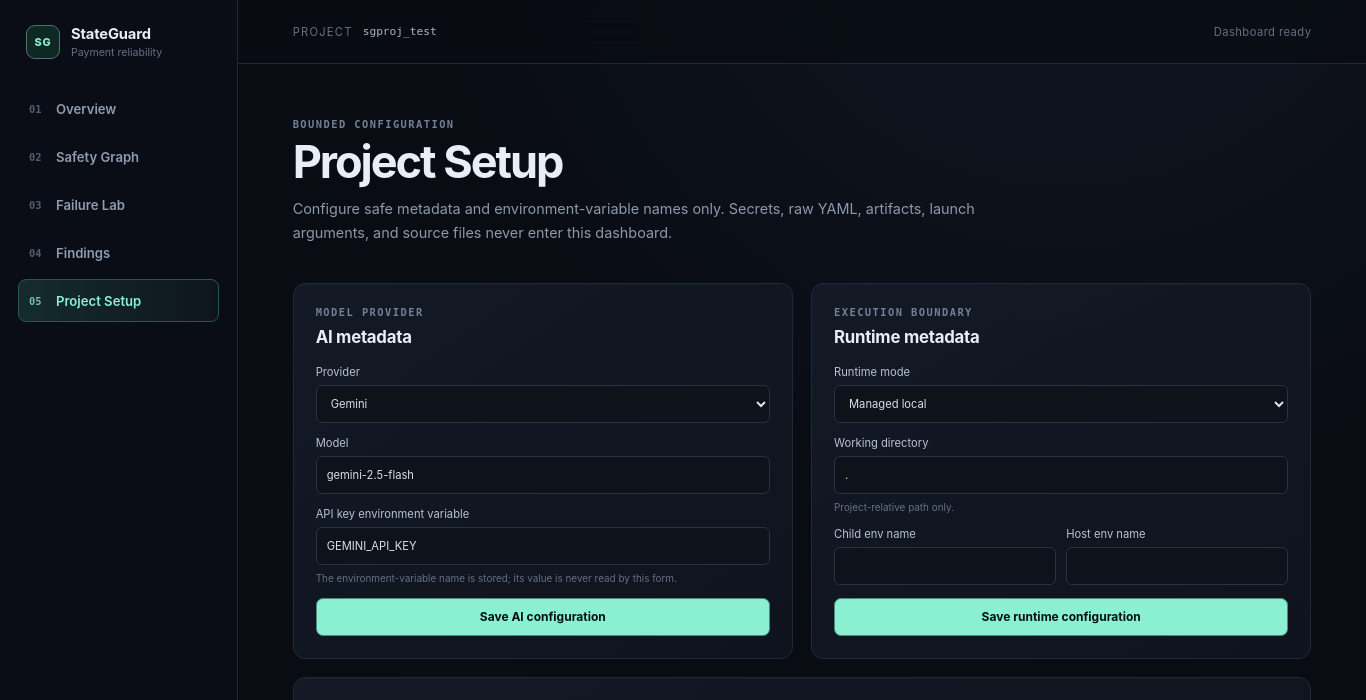
Scenario: ProjectSetupPage semantic workflow integration › renders partial bundle copy when provider succeeded with partial coverage
# Establish analysis authority
Click the link "01 Overview".
click(73, 108)  # box [29,100,116,116]
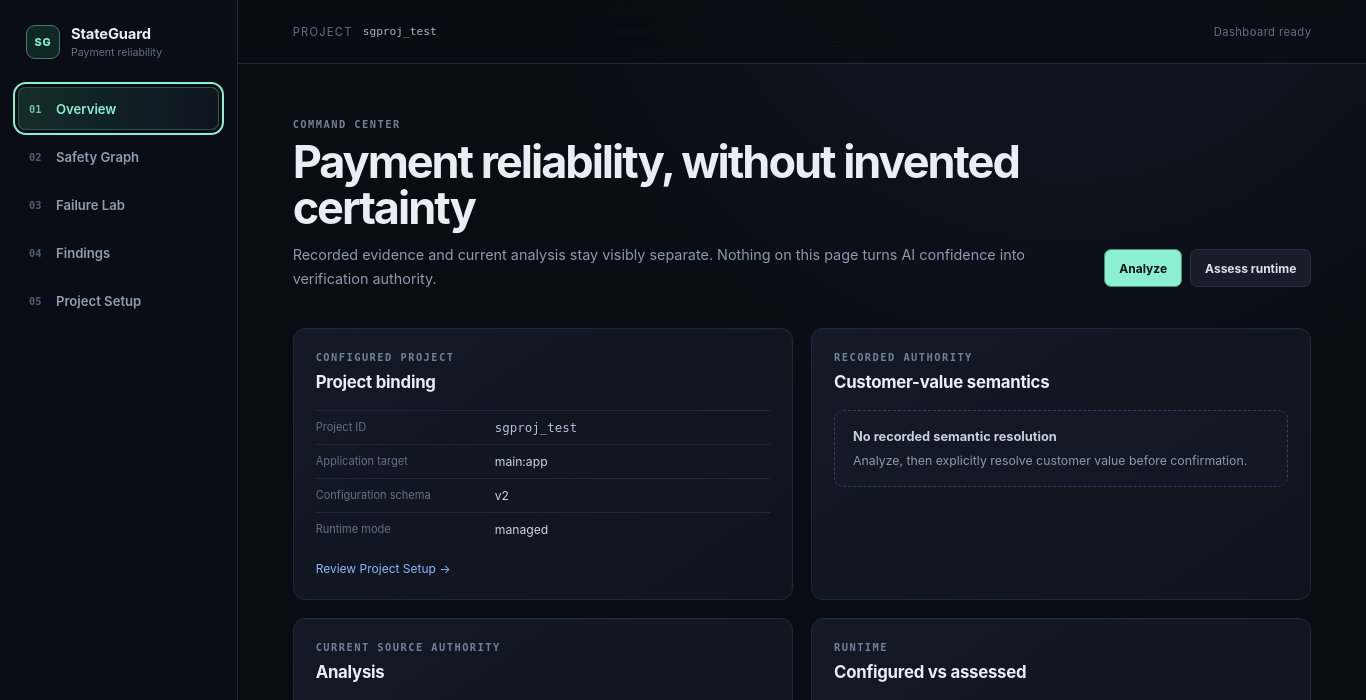
Click the button "Analyze".
click(1143, 268)  # box [1104,250,1182,288]
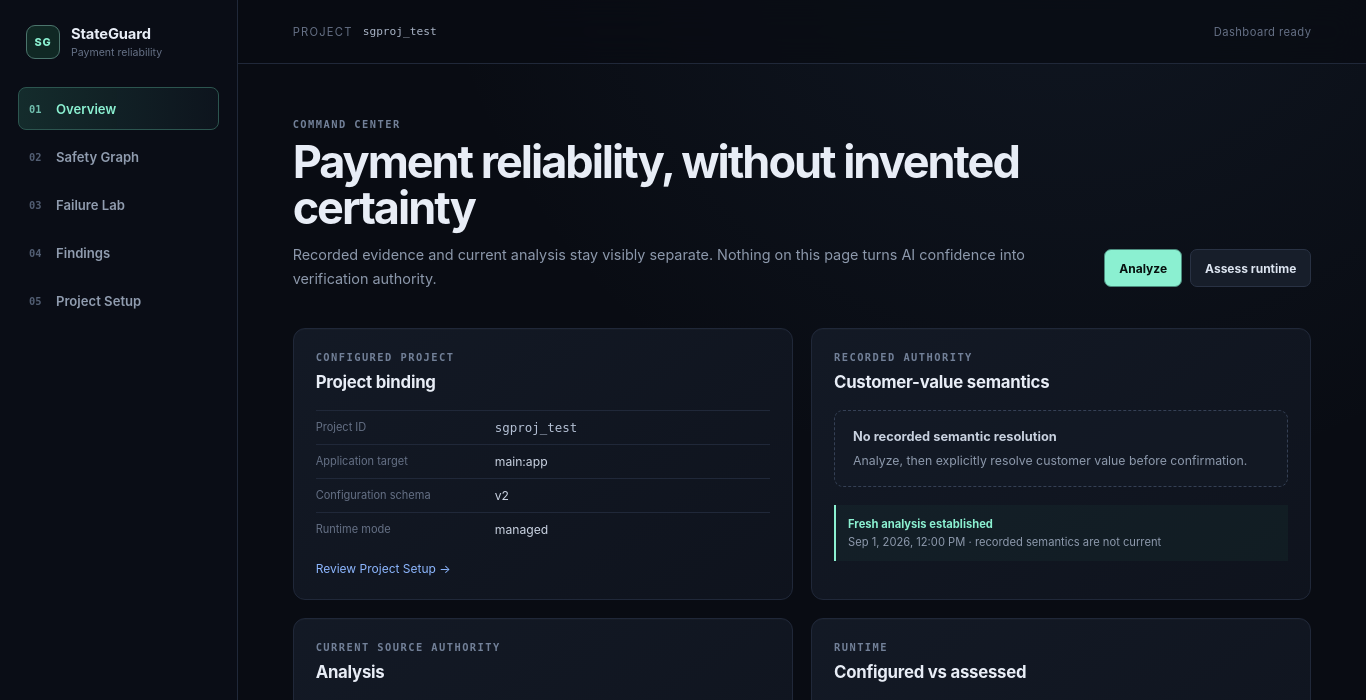
Click the link "05 Project Setup".
click(85, 300)  # box [29,292,141,308]
(page scrolled)
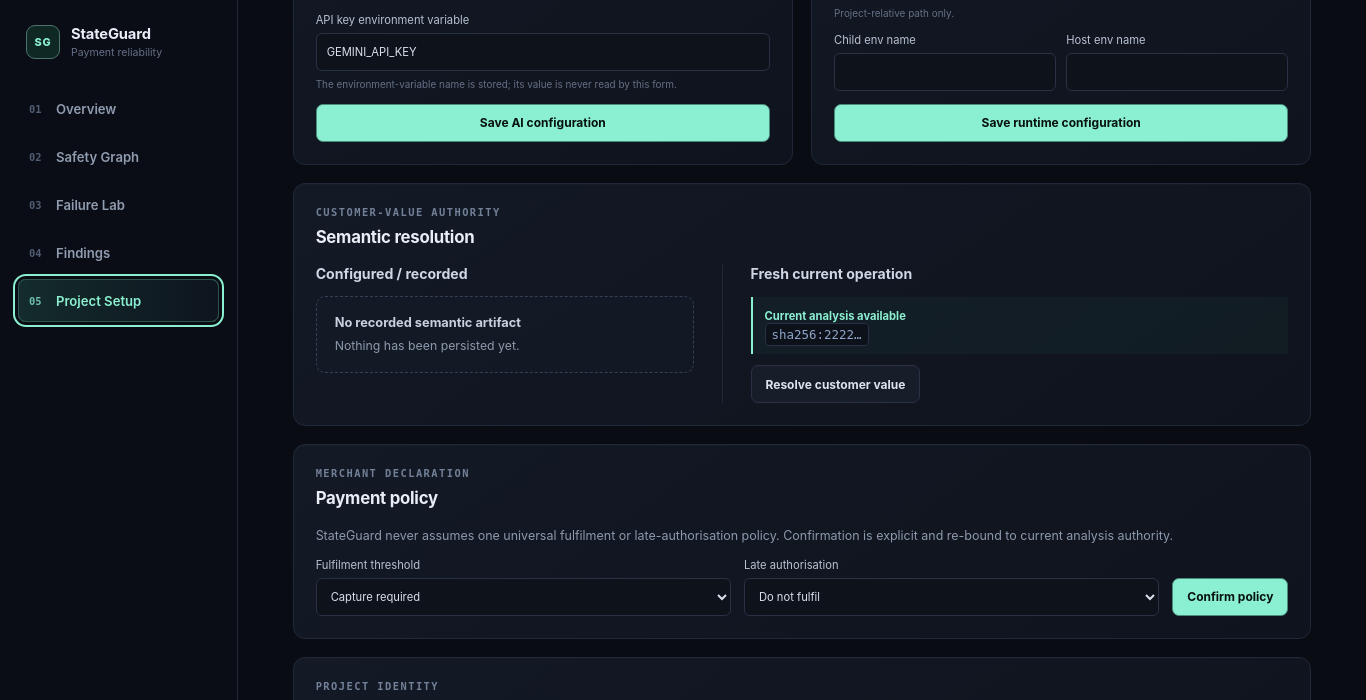
Click the button "Resolve customer value".
click(836, 384)  # box [750,365,920,403]
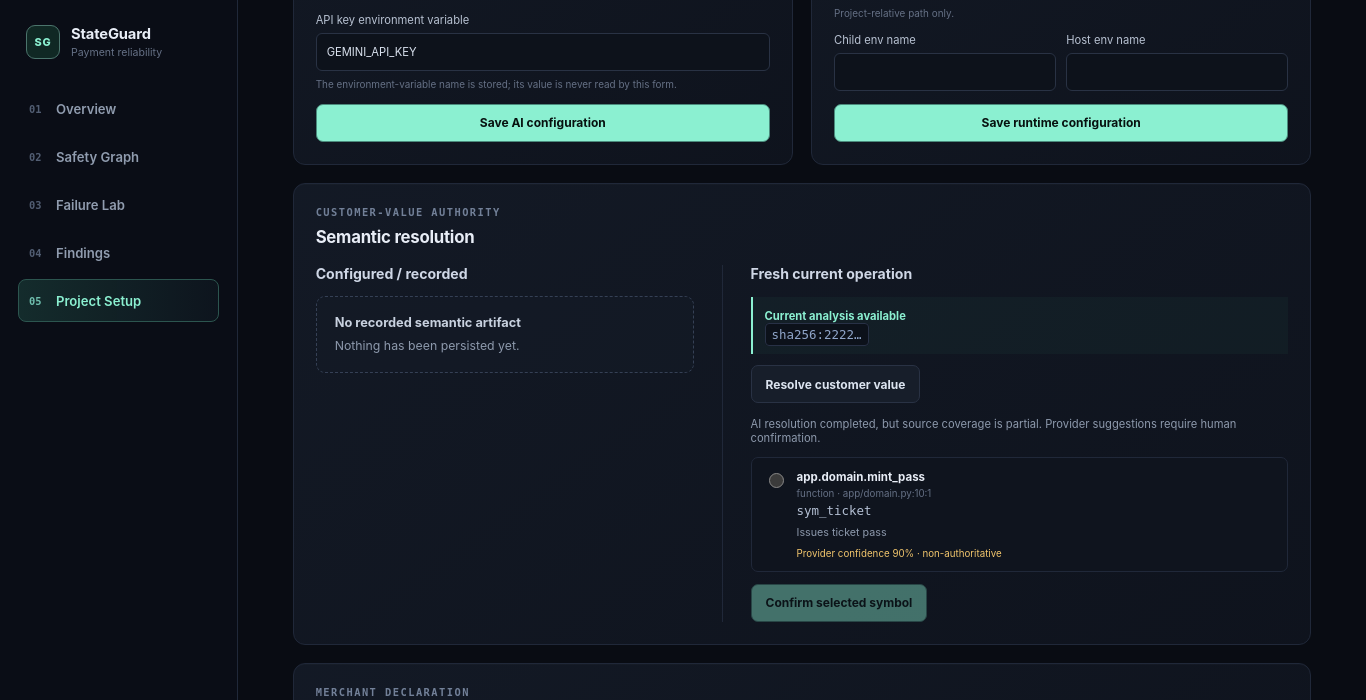
Expected: the text "AI resolution completed, but source coverage is partial. Provider suggestions require human confirmation." is shown, [750,417,1236,445]
